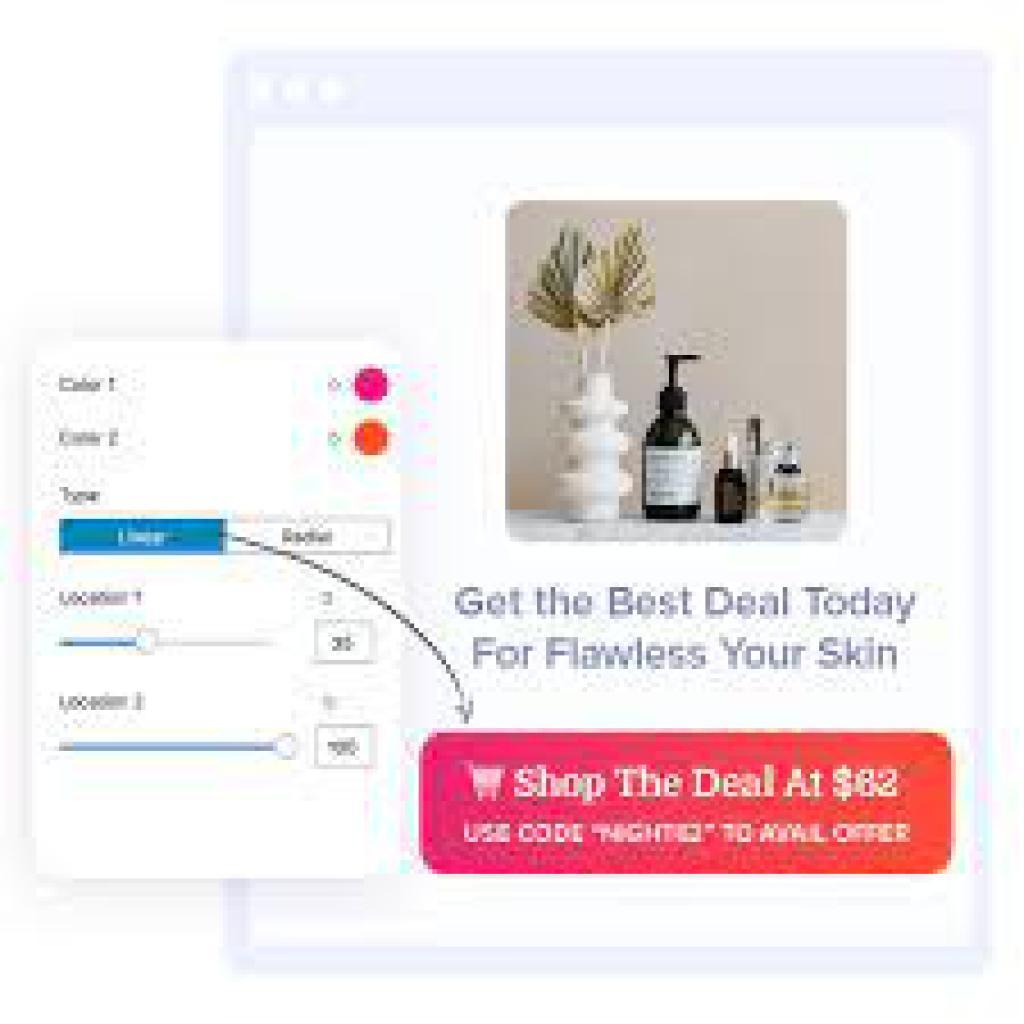slider: (51, 728, 308, 768), (47, 625, 288, 663)
